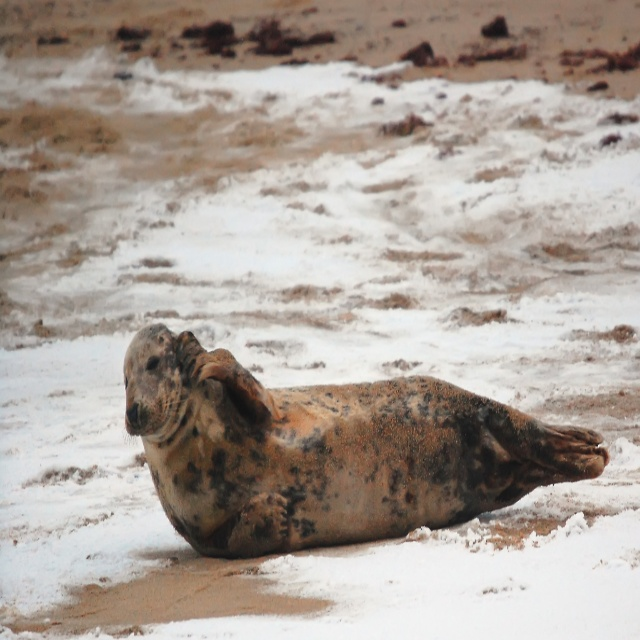Sea lion: (124, 327, 605, 561)
